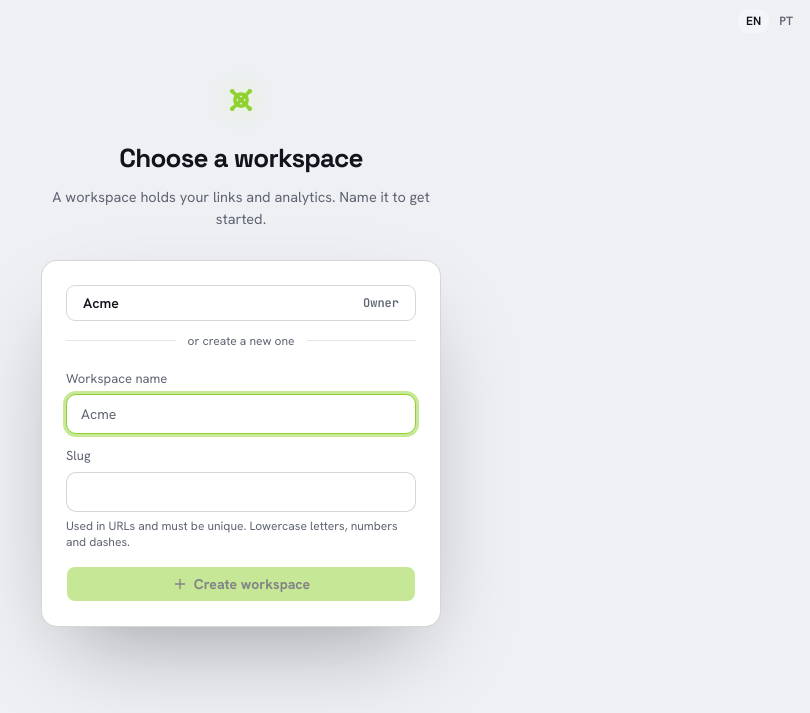
it: Onboarding › shows an error when switching to a workspace fails
The image size is (810, 713).
Step 1. Click the button "Acme Owner" → x=101, y=303, box [66, 285, 416, 321]
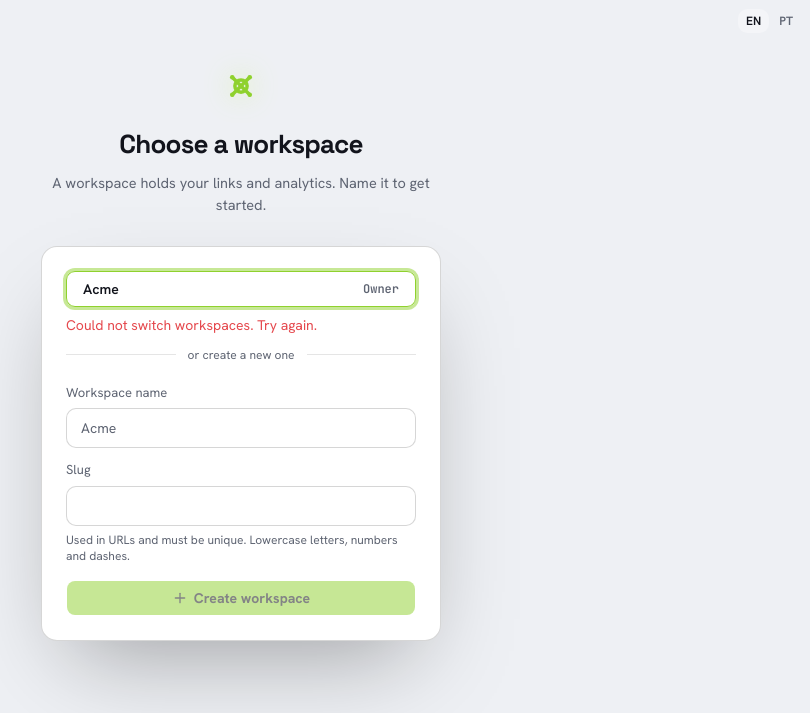
Result: the message shows "Could not switch workspaces" at [66, 316, 317, 334]
